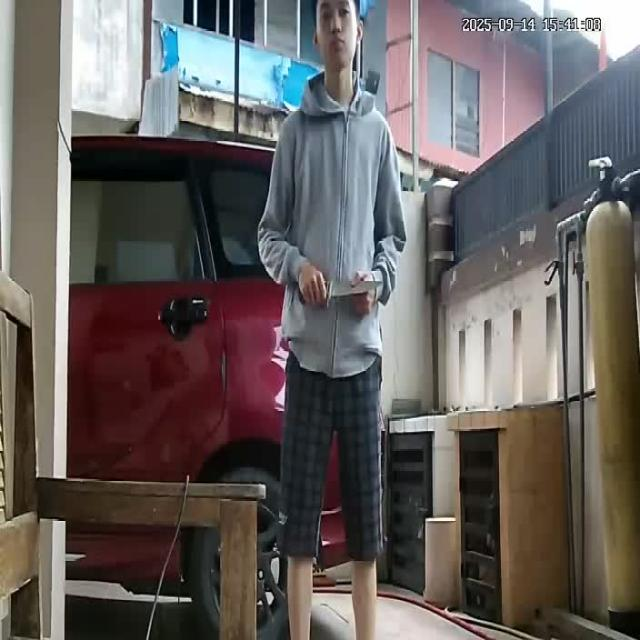senjata_tajam: (325, 276, 385, 300)
